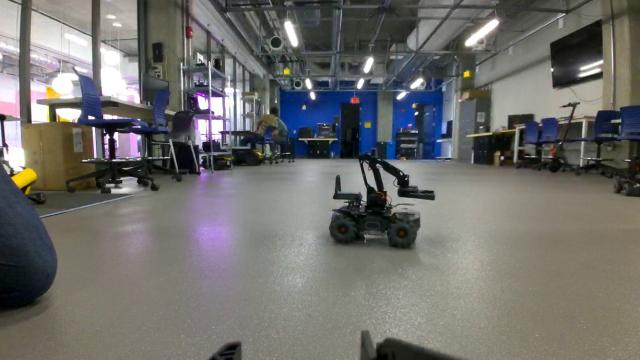robot: (326, 144, 439, 249)
